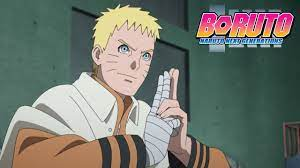Naruto: (94, 7, 157, 96)
